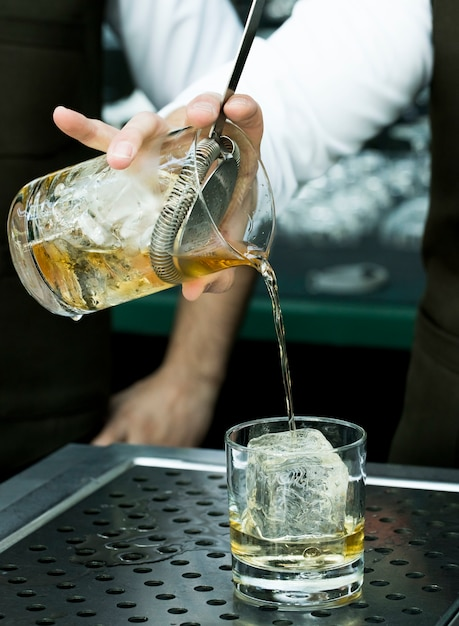alcohol: (5, 118, 279, 324), (216, 415, 372, 611)
